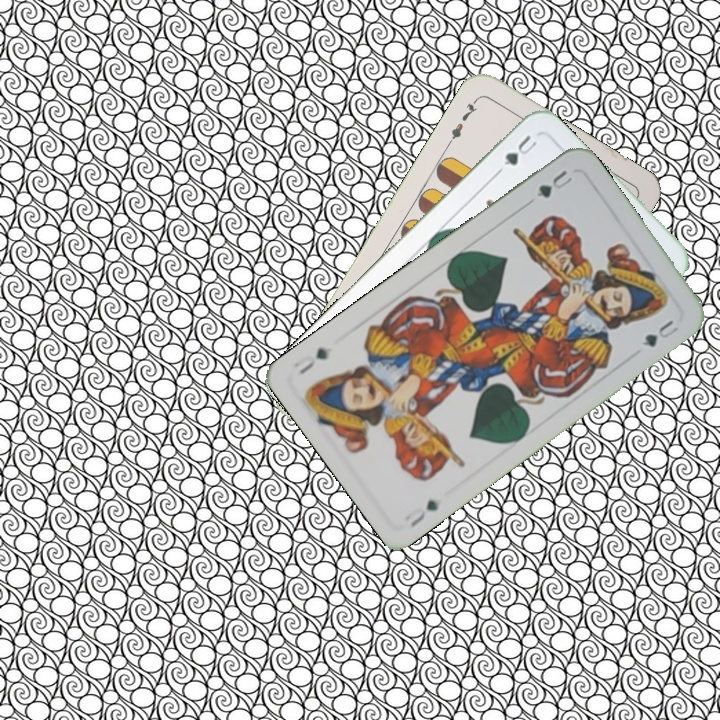E7: (444, 94, 481, 147)
GU: (499, 130, 540, 168), (532, 166, 575, 201), (406, 495, 442, 530)
